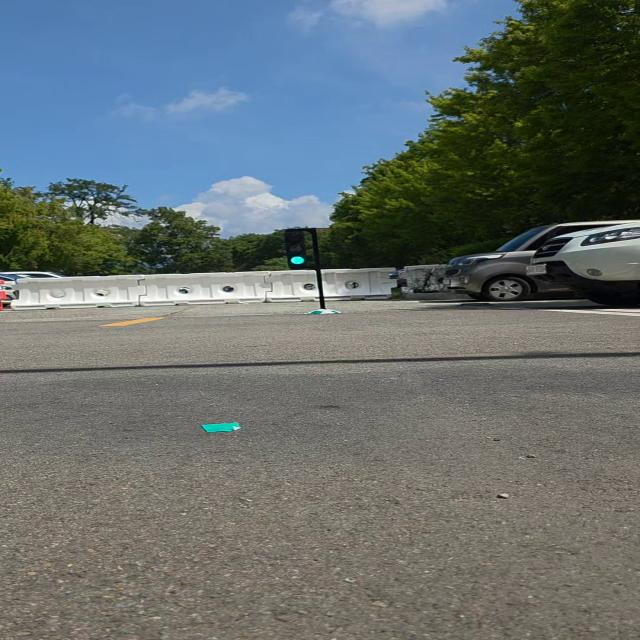green: (280, 226, 319, 271)
